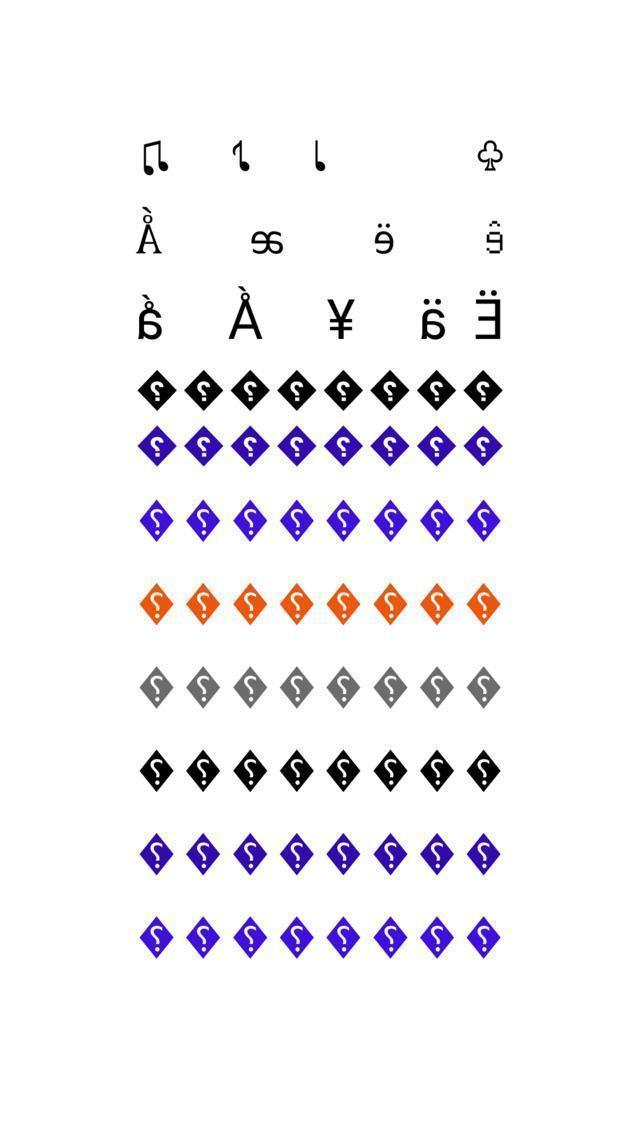ASCII: (222, 278, 274, 346), (128, 202, 171, 264), (468, 281, 507, 348), (411, 292, 454, 346), (128, 288, 168, 346), (464, 577, 508, 628), (418, 743, 457, 796), (136, 662, 176, 713), (466, 830, 506, 880), (464, 912, 504, 962), (326, 742, 364, 794), (323, 286, 358, 342), (464, 663, 504, 712), (418, 662, 457, 712), (466, 746, 504, 797), (278, 828, 316, 879), (322, 424, 366, 468), (418, 580, 458, 628), (277, 664, 317, 712), (372, 830, 410, 880), (324, 366, 366, 411), (463, 422, 504, 468), (418, 421, 458, 468), (278, 914, 318, 961), (136, 913, 176, 960), (239, 226, 294, 260), (232, 578, 270, 627), (232, 662, 269, 712), (419, 912, 456, 962), (136, 831, 178, 875), (230, 369, 271, 414), (276, 423, 316, 469), (186, 494, 222, 545), (138, 134, 177, 181), (184, 367, 223, 414), (185, 662, 223, 710), (418, 829, 456, 877), (182, 424, 223, 468), (276, 750, 317, 794), (280, 578, 316, 628), (326, 663, 364, 710), (327, 497, 363, 546), (277, 367, 318, 410), (137, 368, 177, 412), (230, 423, 270, 467), (324, 832, 362, 878), (372, 747, 409, 794), (139, 745, 176, 792), (140, 577, 174, 628), (326, 580, 362, 628), (232, 748, 268, 796), (326, 914, 362, 962), (471, 138, 515, 177), (137, 423, 176, 467), (369, 369, 407, 414), (374, 497, 411, 543), (304, 128, 338, 178), (477, 212, 511, 262), (375, 661, 409, 711), (280, 497, 315, 545), (186, 830, 221, 878), (372, 915, 410, 959), (372, 423, 409, 468), (139, 496, 175, 542), (187, 578, 220, 628), (374, 579, 409, 626), (187, 745, 222, 792), (234, 917, 272, 960), (420, 366, 454, 414), (234, 496, 268, 544), (186, 914, 220, 960), (466, 372, 507, 410), (421, 497, 454, 544), (368, 212, 399, 262), (234, 830, 267, 876), (468, 498, 500, 544), (224, 138, 256, 176)
